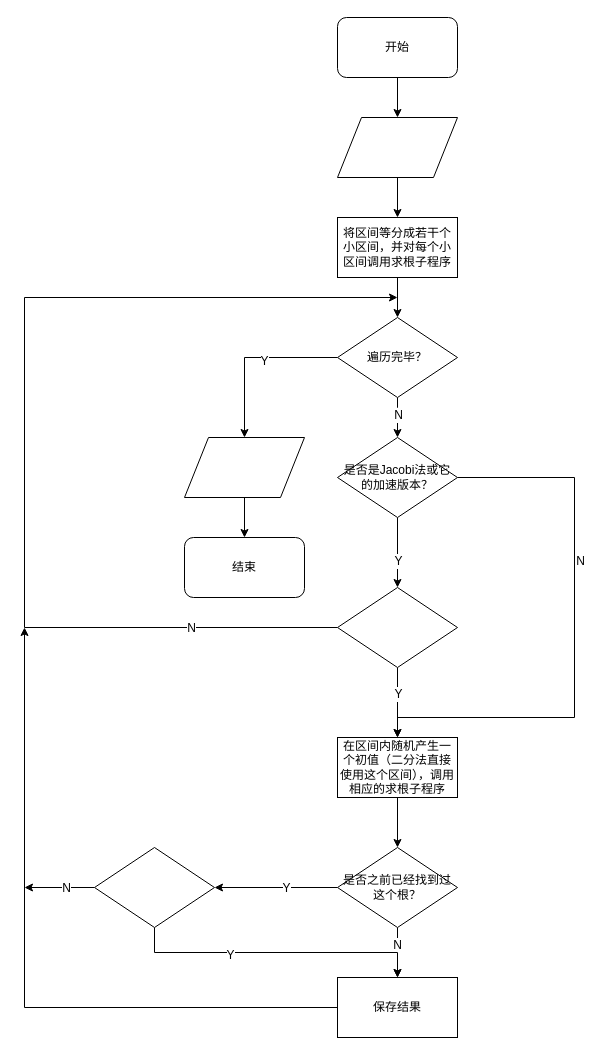
Some shapes in this 602 by 1055 pixel diagram are drawn without their labels. Each missing label, with the centre of its shape:
"一定收敛？" belongs at (397,627).
"是否误差更小？" belongs at (154,887).
"输入方法、区间、 精度和函数" belongs at (397,147).
"输出结果" belongs at (244,467).
